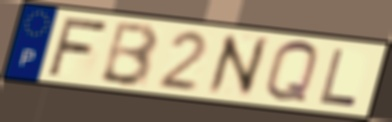2: (155, 29, 211, 93)
B: (96, 21, 162, 89)
F: (45, 15, 112, 78)
L: (317, 47, 360, 109)
N: (204, 32, 270, 98)
Q: (262, 39, 321, 106)
